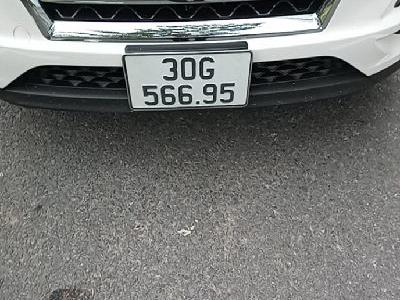lisence: (121, 50, 254, 112)
